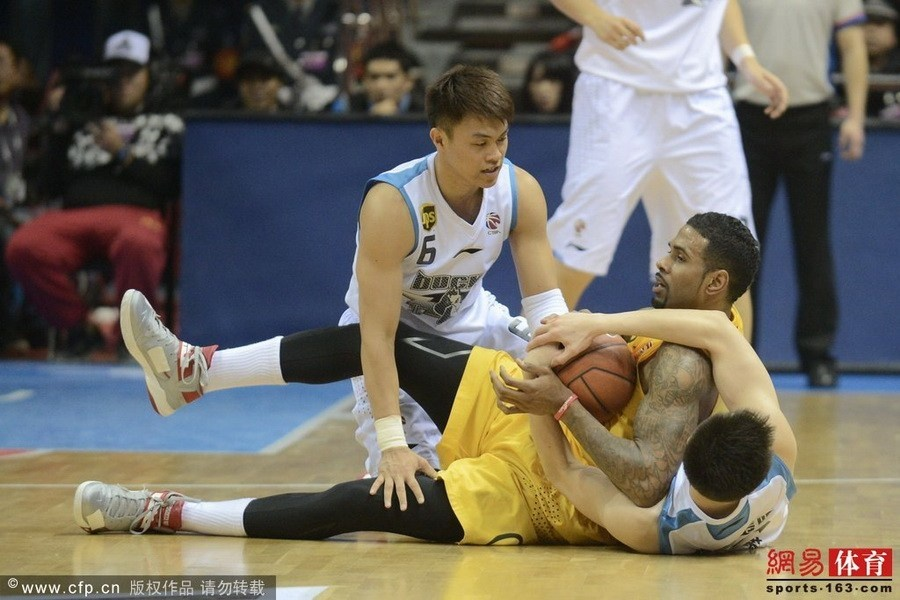falling: (492, 214, 805, 561)
